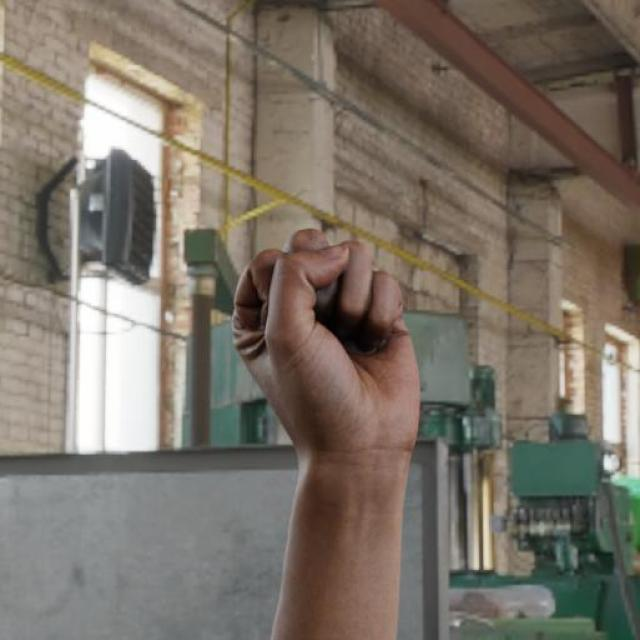S: (229, 221, 426, 465)
